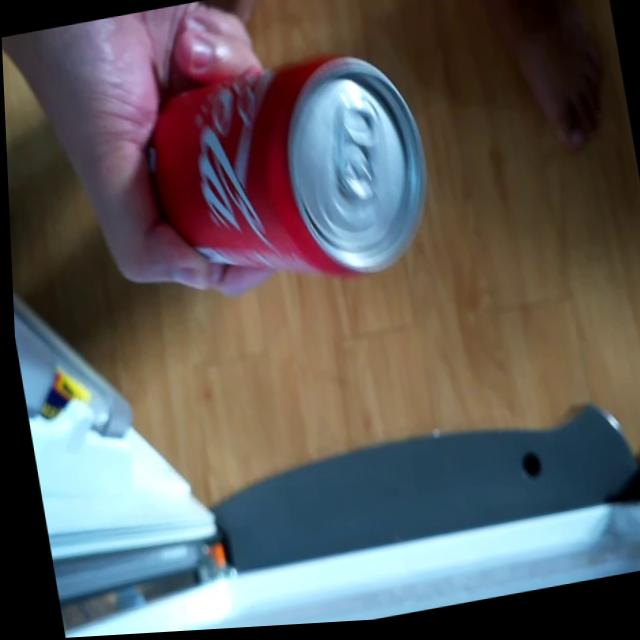coke: (123, 25, 448, 331)
